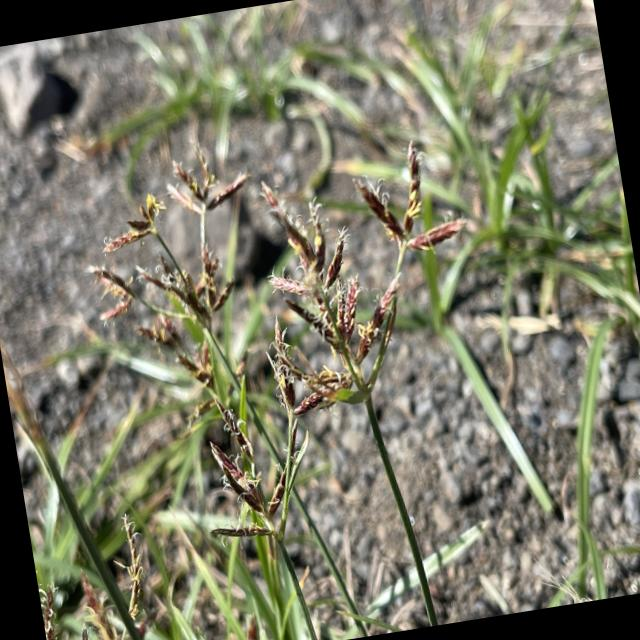cyperus: (234, 132, 489, 438), (80, 148, 264, 422), (181, 390, 333, 570), (28, 503, 172, 640)
